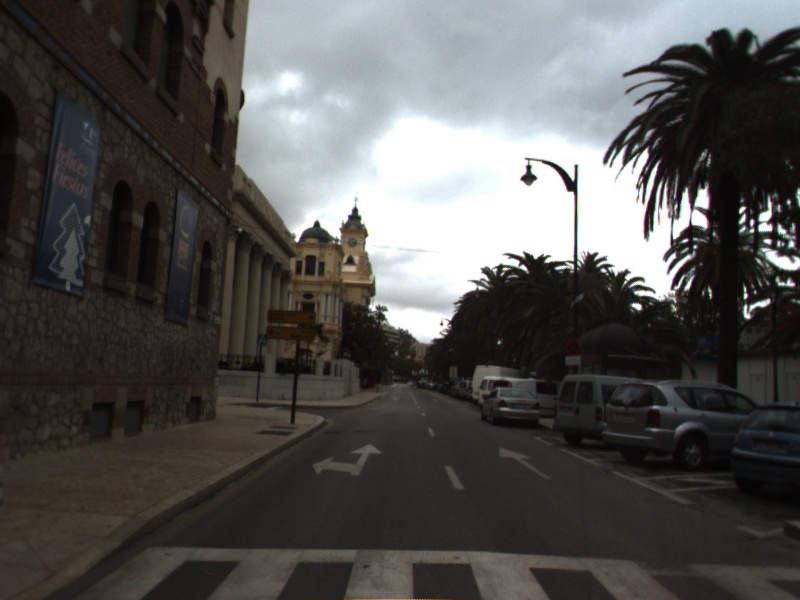STRAIGHT: (497, 443, 554, 482)
STRAIGHT_LEFT: (309, 442, 384, 478)
